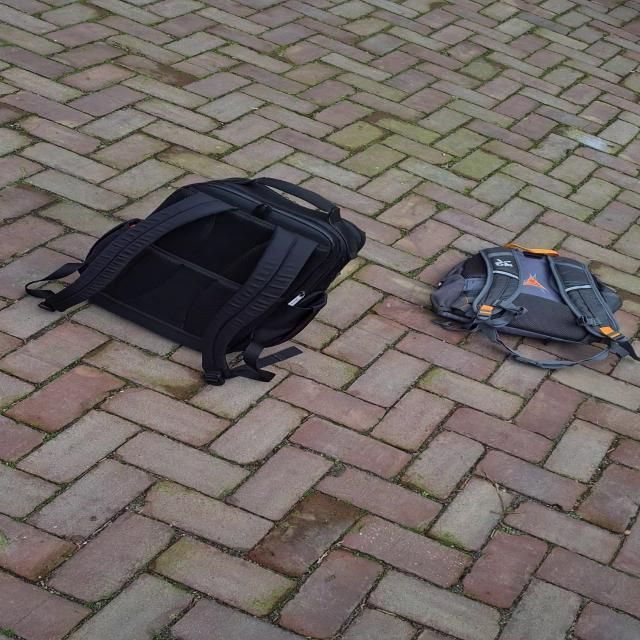backpack: (47, 170, 374, 368), (422, 240, 634, 362)
